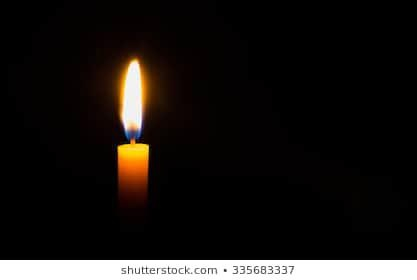fire: (118, 54, 145, 143)
